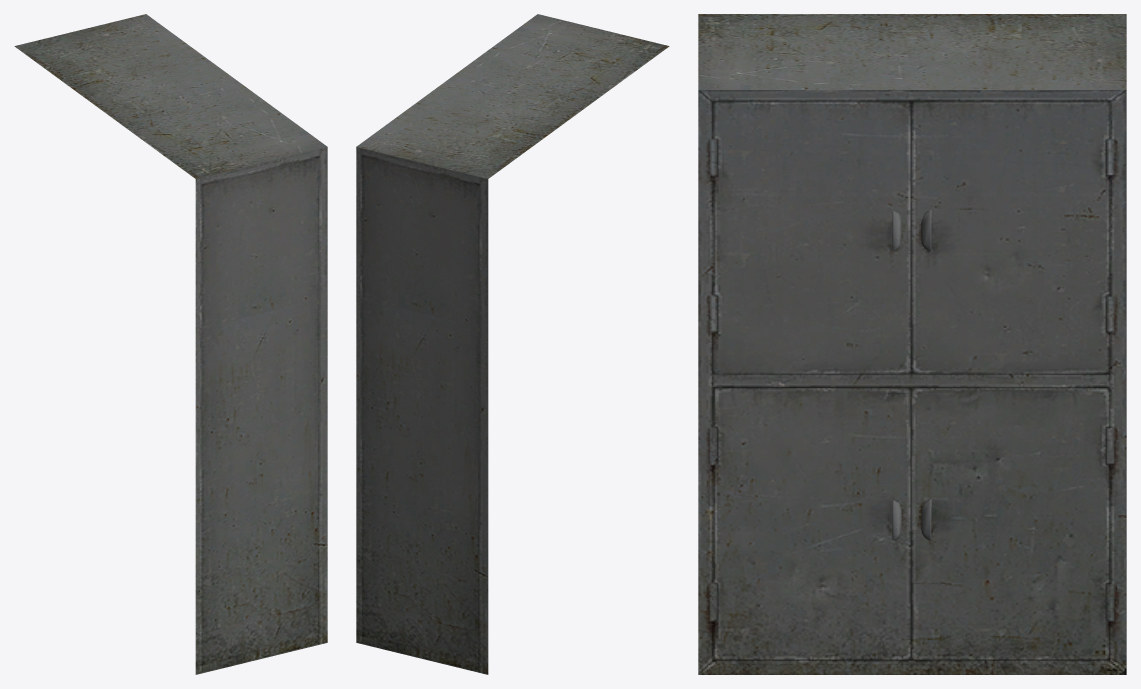
File: Prop_DflgGuswfjcDj004.glb
3 views of the same model, side by side, from view 1: azimuth 30°, elevation 25°; view 2: azimuth 150°, elevation 25°; view 3: azimuth 270°, elevation 25° (orthographic). The views are drawn at different scales.
Parts seen in each view (by area): view 1: dflg_guswfjc_dj004; view 2: dflg_guswfjc_dj004; view 3: dflg_guswfjc_dj004.
Part boxes in pixels (box(x1,y1,x2,y2)): dflg_guswfjc_dj004: box(14, 14, 327, 674); dflg_guswfjc_dj004: box(356, 14, 669, 674); dflg_guswfjc_dj004: box(698, 14, 1126, 674).
Bounding box in the file's own units: 1.08 × 3.79 × 2.51.
Materials: 1 (1 with a texture image).
